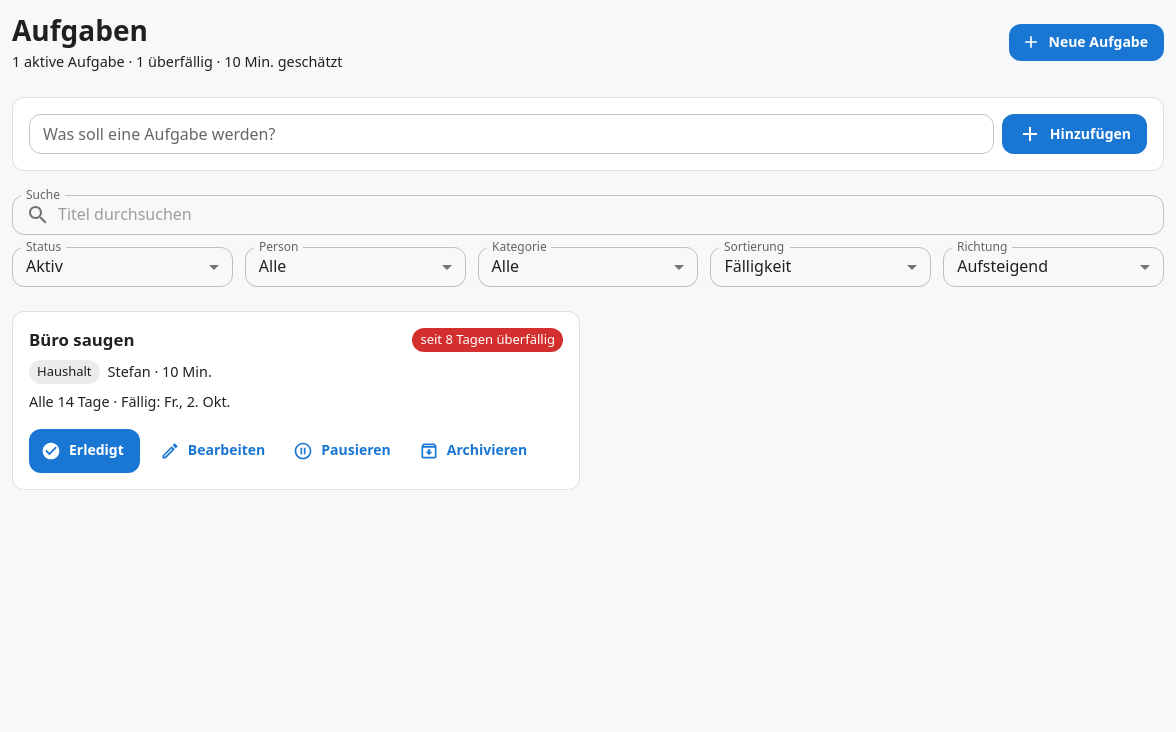
Test case: completion and undo › retries a failed undo with the same Idempotency-Key
The width and height of the screenshot is (1176, 732).
Step 1. Click the button with aria-label "„Büro saugen“ erledigen" → coordinates (84, 451), box [29, 429, 140, 473]
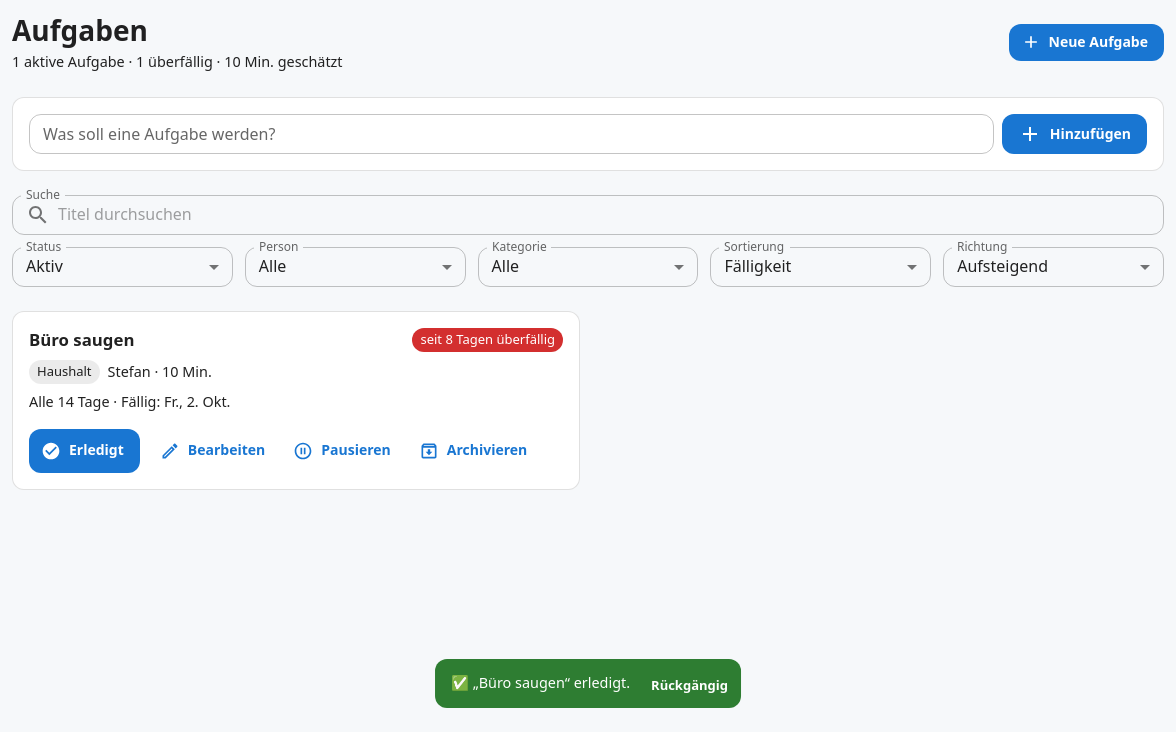
Step 2. Click the button "Rückgängig" → coordinates (690, 686), box [646, 670, 733, 701]
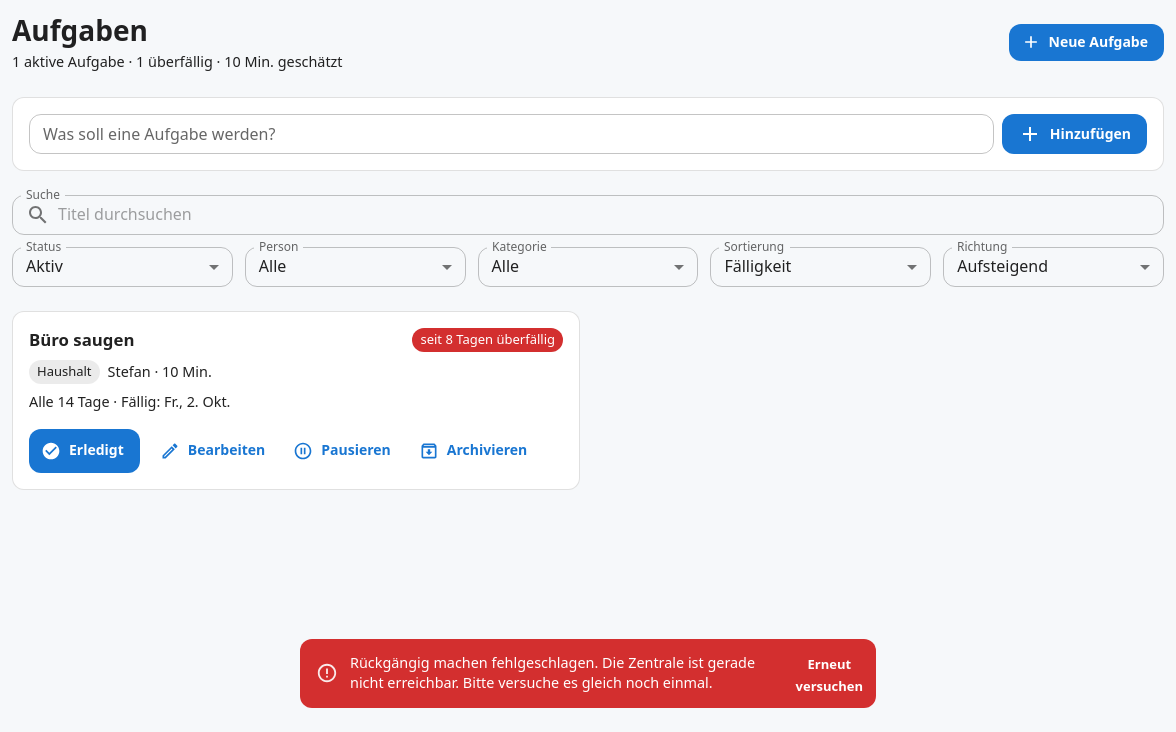
Expected: the text "Rückgängig machen fehlgeschlagen. Die Zentrale ist gerade nicht erreichbar. Bitte versuche es gleich noch einmal." is shown, [350, 653, 755, 692]
Step 3. Click the button "Erneut versuchen" → coordinates (829, 675), box [791, 648, 868, 702]
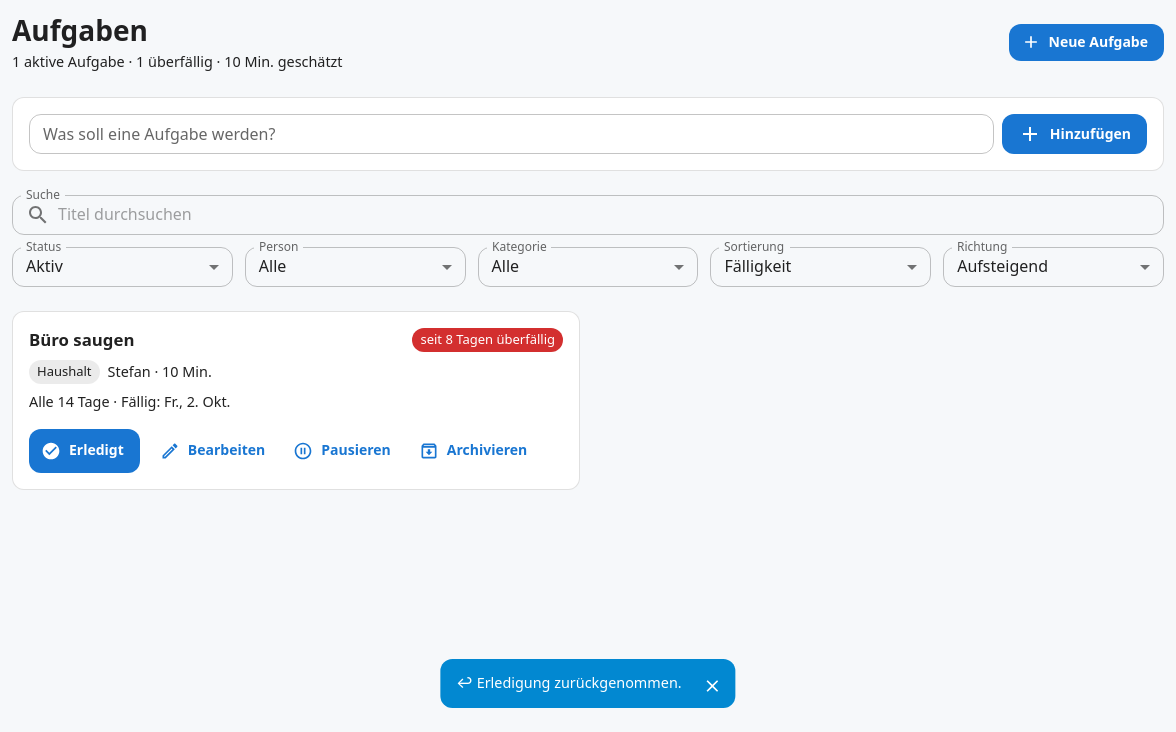
Expected: the text "↩ Erledigung zurückgenommen." is shown, [456, 673, 682, 692]
